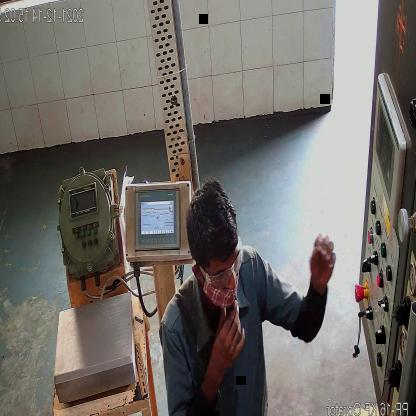goggles: (203, 243, 247, 286)
